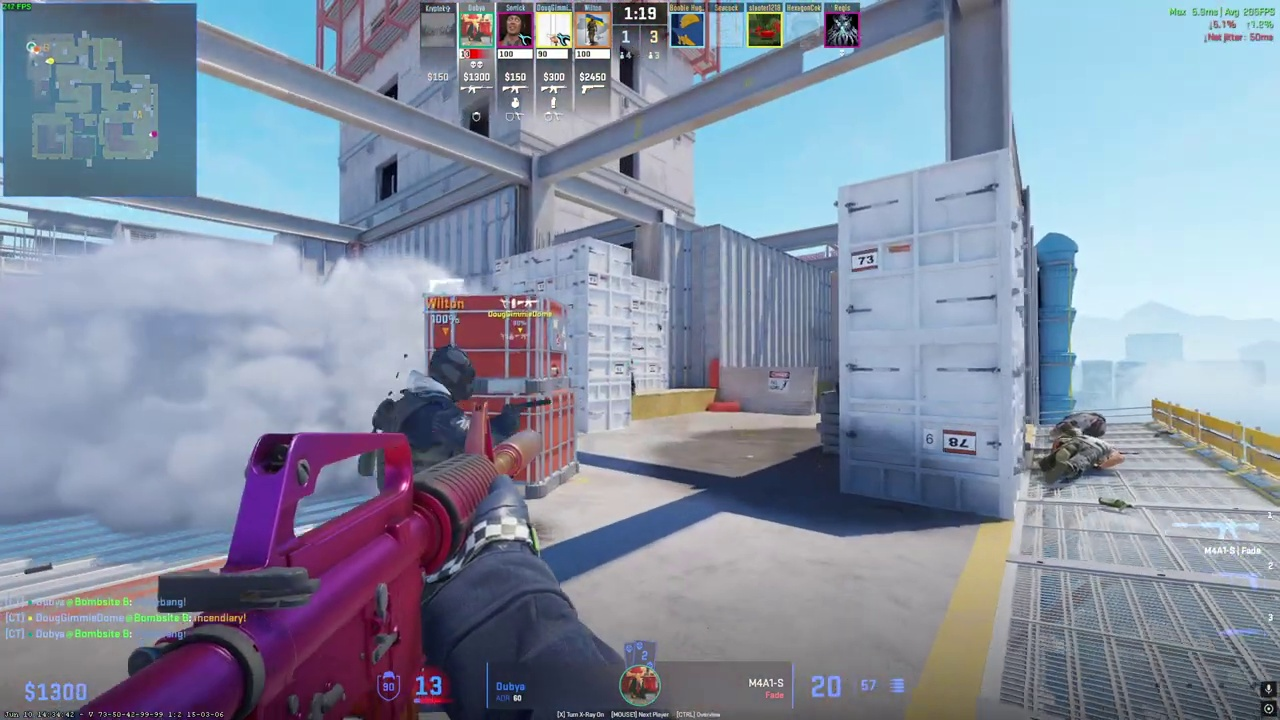CT: (387, 346, 477, 470)
